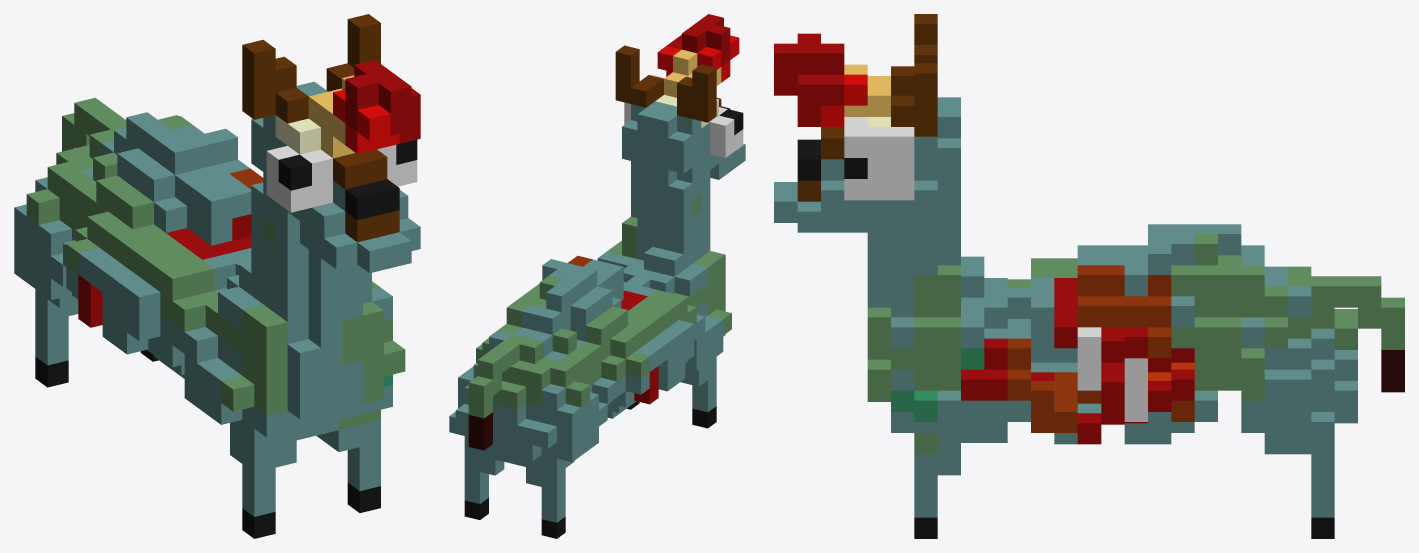
The model's file is zombielama.obj.
3 views of the same model, side by side, from view 1: azimuth 30°, elevation 25°; view 2: azimuth 150°, elevation 25°; view 3: azimuth 270°, elevation 25° (orthographic). The views are drawn at different scales.
Size of the model in its own units: 9 by 22 by 27.
1 material, 1 textured.
